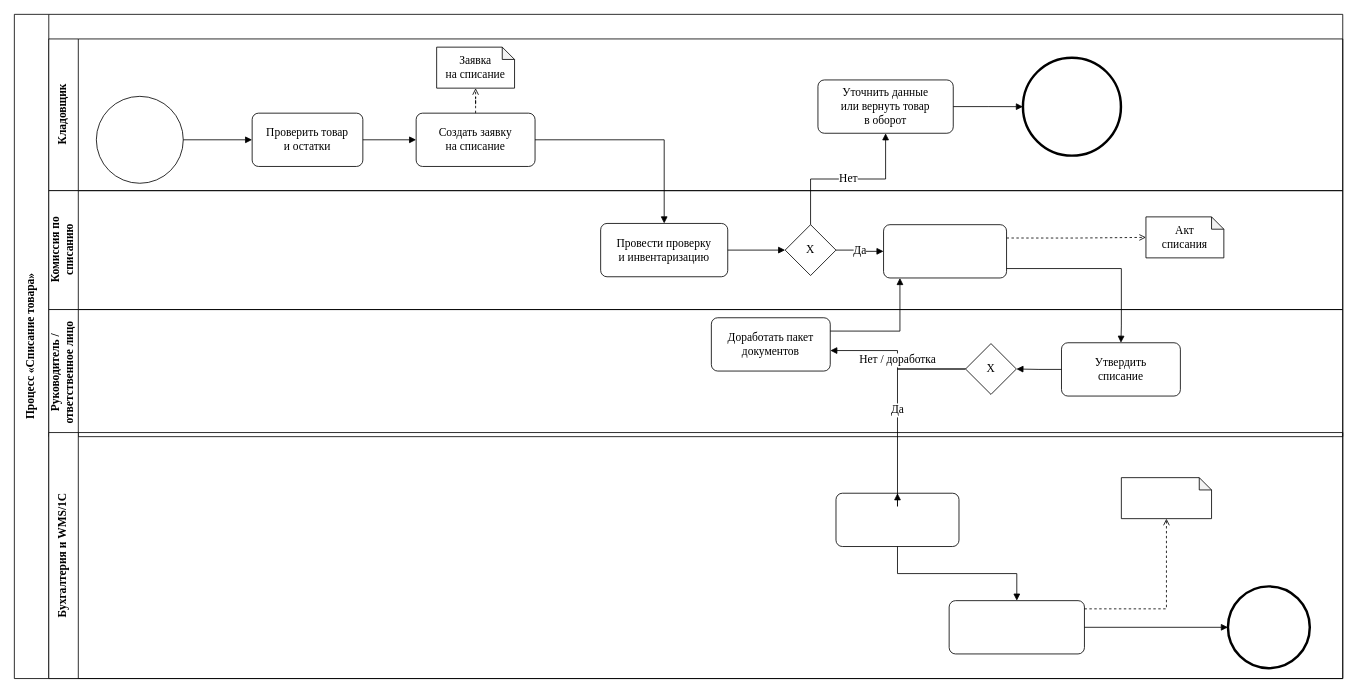
Some shapes in this 1357 by 693 pixel diagram are drawn without their labels. Here are the shapes that lost their labels. From the top down, the box of each, then its label:
(1021, 56, 1122, 156): Списание не выполняется
(96, 96, 183, 183): Выявлен товар для списания
(883, 224, 1007, 278): Составить акт списания
(1121, 477, 1212, 519): Учетные записи и остатки
(835, 492, 959, 547): Отразить списание в учете
(948, 600, 1084, 654): Обновить остатки и закрыть процесс
(1226, 585, 1311, 669): Списание завершено
